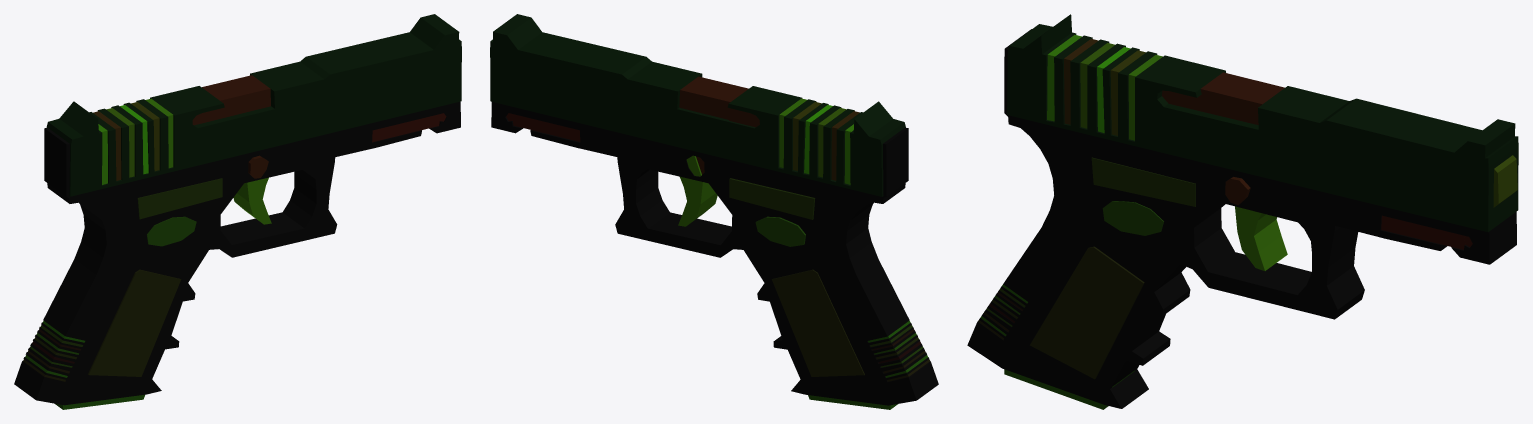
The model's file is glock.glb.
The picture shows the model from 3 angles, left to right: view 1: azimuth 30°, elevation 25°; view 2: azimuth 150°, elevation 25°; view 3: azimuth 330°, elevation 25°; orthographic projection. The views are drawn at different scales.
Parts seen in each view (by area): view 1: Cube_Material.003_0; view 2: Cube_Material.003_0; view 3: Cube_Material.003_0.
Boxes of the visible parts, x1,y1,x2,y2 form: Cube_Material.003_0: [14, 14, 461, 409]; Cube_Material.003_0: [490, 14, 938, 409]; Cube_Material.003_0: [967, 14, 1518, 409].
Bounding box in the file's own units: 4 × 2.62 × 0.415.
